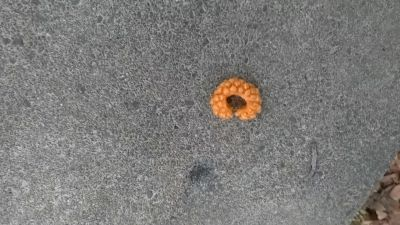eggs: (210, 77, 263, 122)
